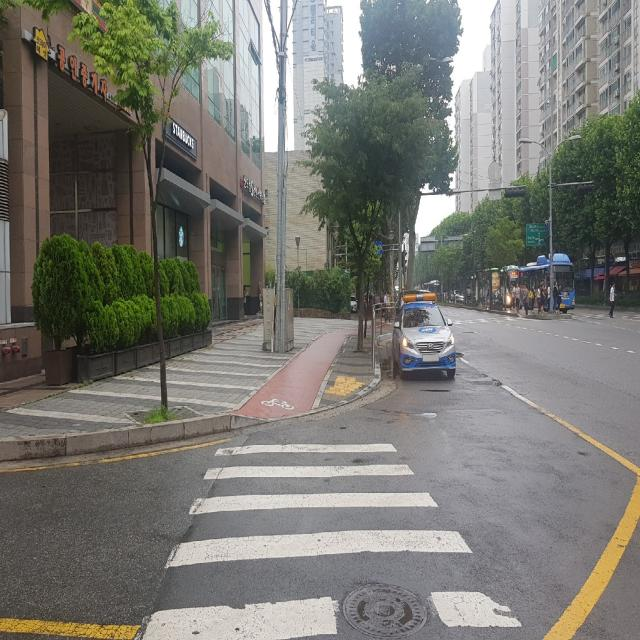횡단보도: (143, 443, 522, 639)
